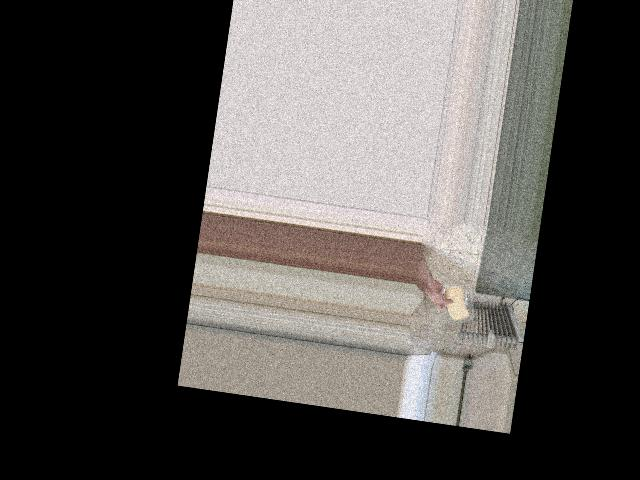cheese: (439, 281, 473, 326)
